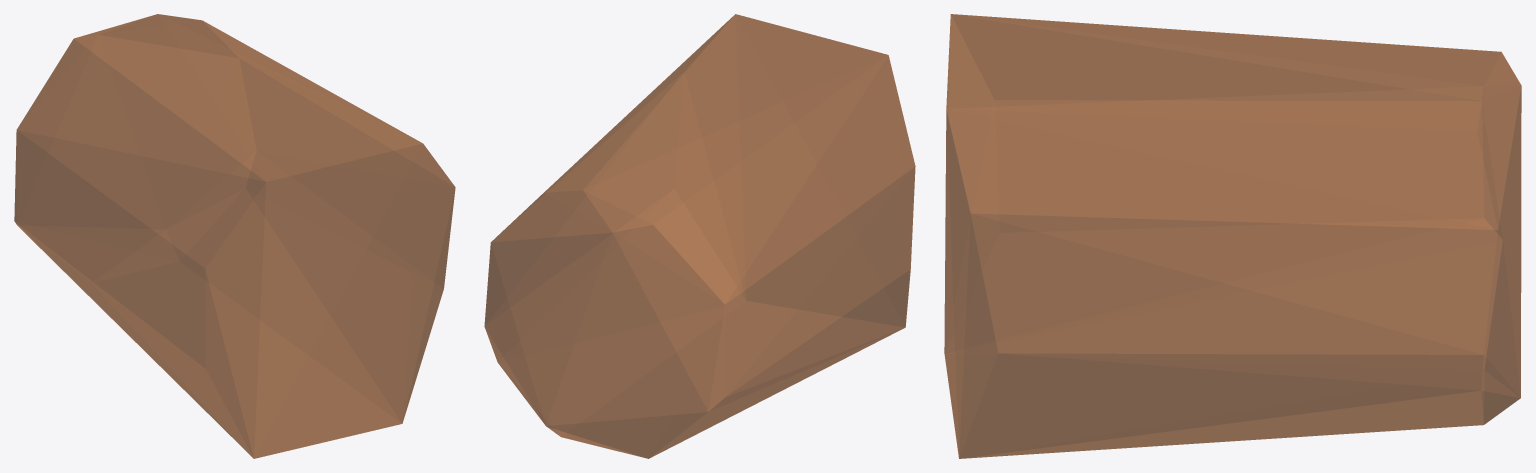
3 views of the same model, side by side, from view 1: azimuth 30°, elevation 25°; view 2: azimuth 150°, elevation 25°; view 3: azimuth 270°, elevation 25° (orthographic). The views are drawn at different scales.
Visible parts, largest first — view 1: Shape_IndexedFaceSet.005_Shape_IndexedFaceSet.8254; view 2: Shape_IndexedFaceSet.005_Shape_IndexedFaceSet.8254; view 3: Shape_IndexedFaceSet.005_Shape_IndexedFaceSet.8254.
Boxes of the visible parts, x1=… form: Shape_IndexedFaceSet.005_Shape_IndexedFaceSet.8254: x1=14, y1=14, x2=455, y2=458; Shape_IndexedFaceSet.005_Shape_IndexedFaceSet.8254: x1=484, y1=14, x2=915, y2=458; Shape_IndexedFaceSet.005_Shape_IndexedFaceSet.8254: x1=944, y1=14, x2=1521, y2=458.
Bounding box in the file's own units: 0.1248 × 0.138 × 0.2005.
